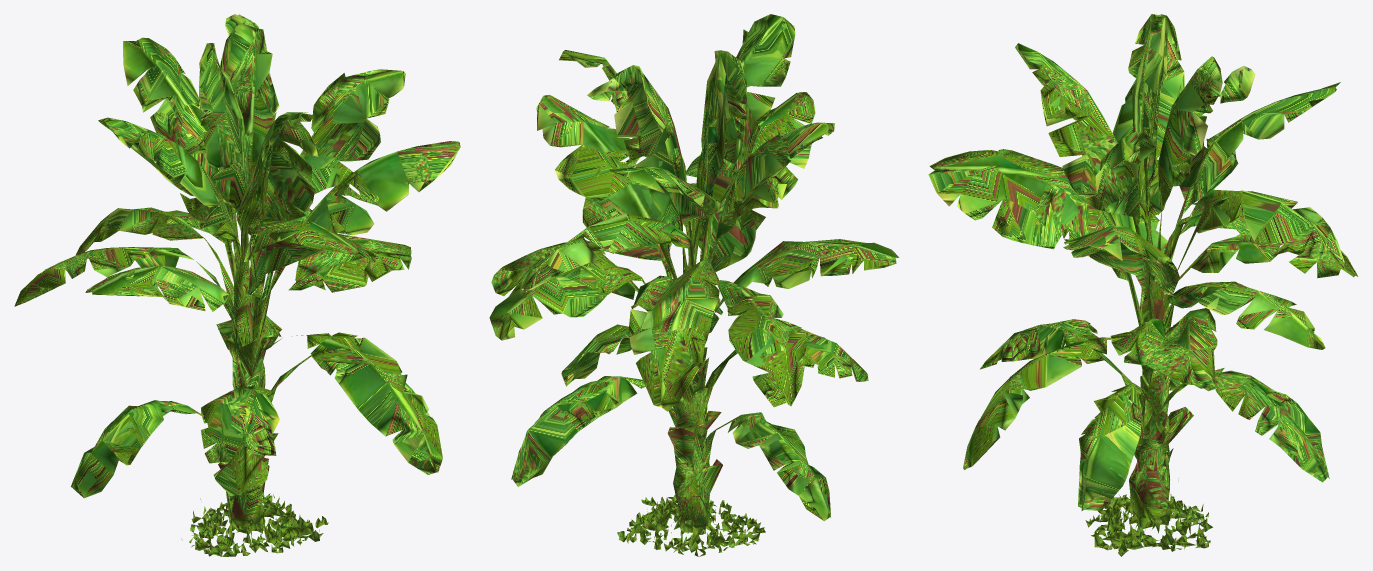
File: banana-plant.glb
The picture shows the model from 3 angles, left to right: view 1: azimuth 30°, elevation 25°; view 2: azimuth 150°, elevation 25°; view 3: azimuth 270°, elevation 25°; orthographic projection.
Size of the model in its own units: 1.46 by 1.9 by 1.5.
Materials: 1 (1 with a texture image).
